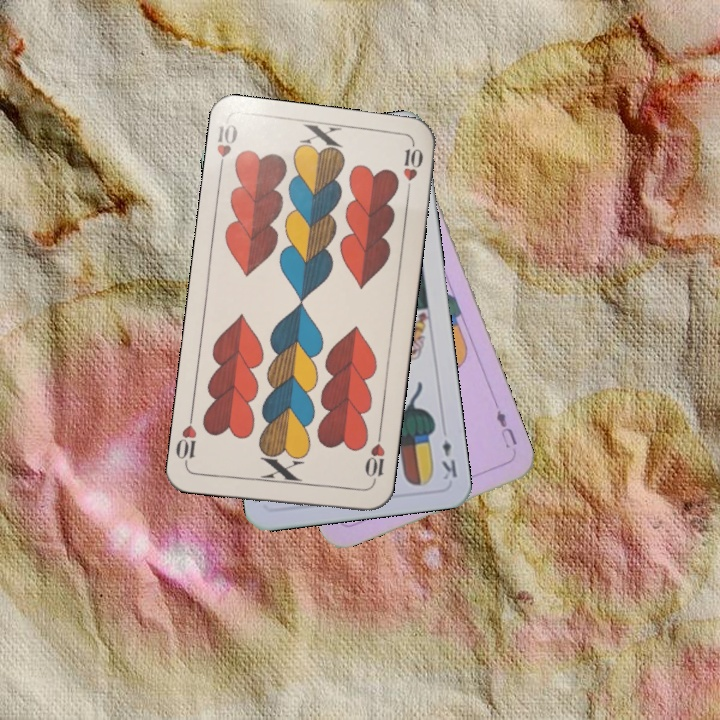EK: (438, 436, 460, 483)
EU: (492, 406, 520, 451)
H10: (212, 120, 242, 178), (360, 430, 388, 489)
